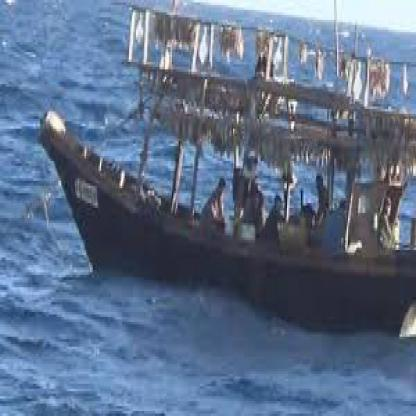fish-b: (31, 0, 414, 357)
